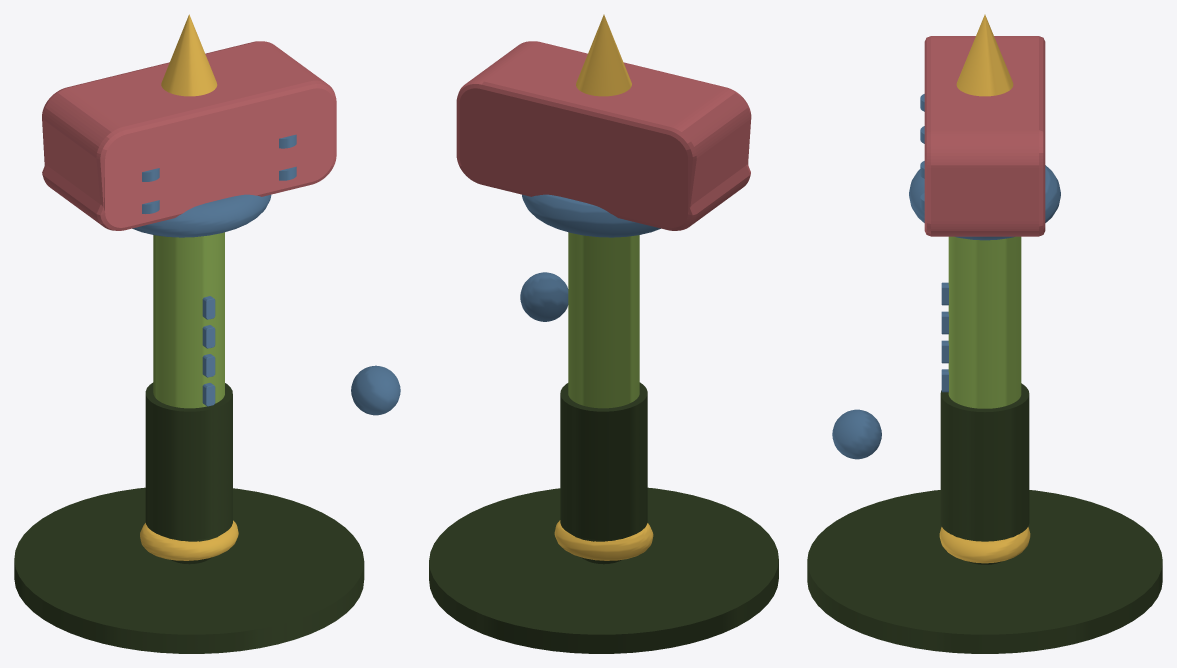
File: 0568_伟大的发明图鉴_硅藻土.glb
3 views of the same model, side by side, from view 1: azimuth 30°, elevation 25°; view 2: azimuth 150°, elevation 25°; view 3: azimuth 270°, elevation 25° (orthographic).
Parts seen in each view (by area): view 1: card_0568; view 2: card_0568; view 3: card_0568.
Boxes of the visible parts, left/top/right/bottom form: card_0568: left=14, top=14, right=400, bottom=653; card_0568: left=429, top=14, right=778, bottom=653; card_0568: left=807, top=14, right=1162, bottom=653.
Bounding box in the file's own units: 0.5571 × 1 × 0.569.
